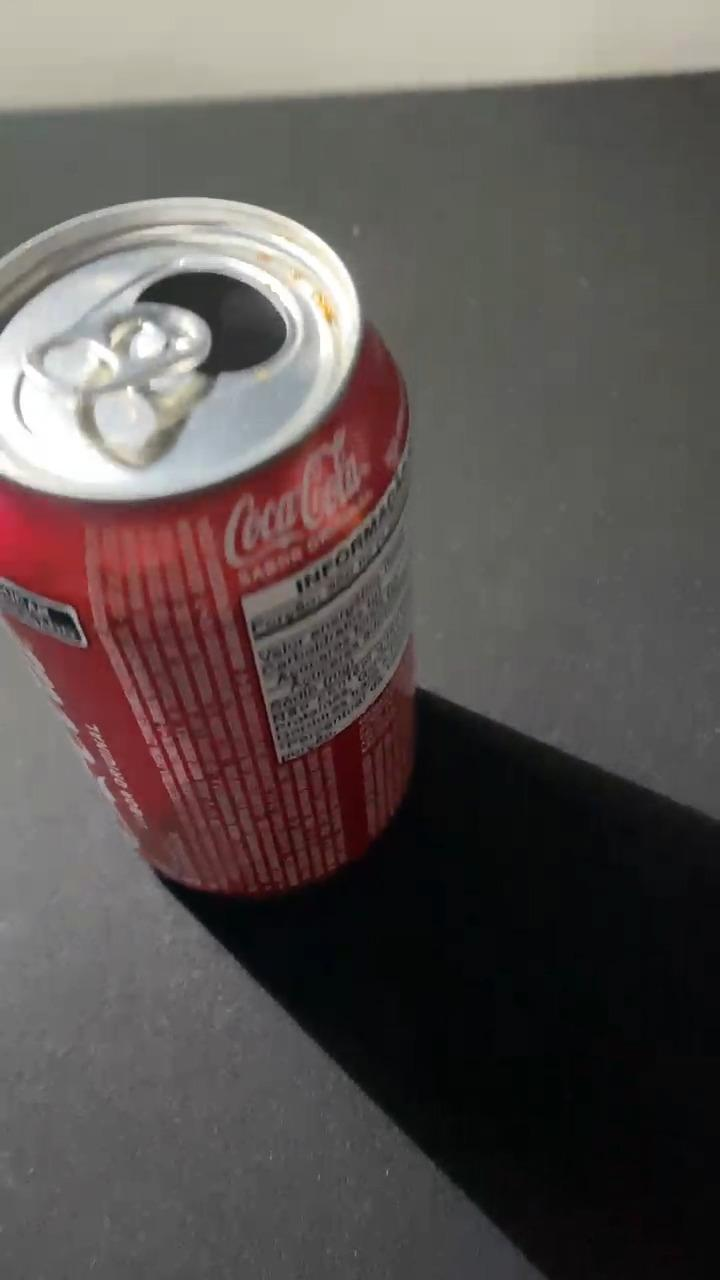coke: (5, 198, 419, 898)
